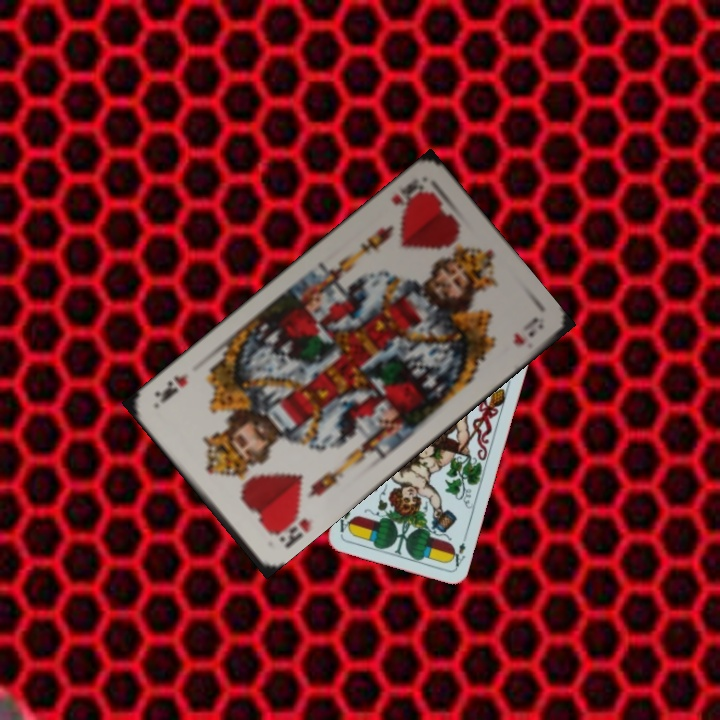EA: (446, 530, 470, 569)
HK: (267, 507, 314, 552), (387, 174, 430, 215)
